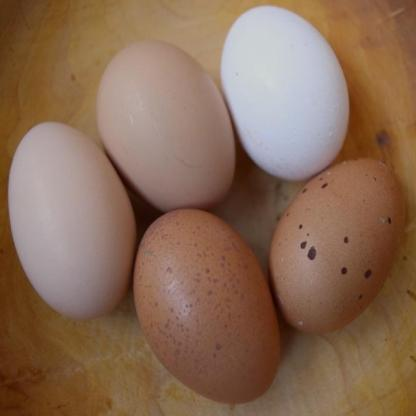egg: (114, 194, 290, 407), (200, 2, 368, 186), (88, 35, 244, 226), (255, 148, 409, 340), (7, 114, 138, 326)
